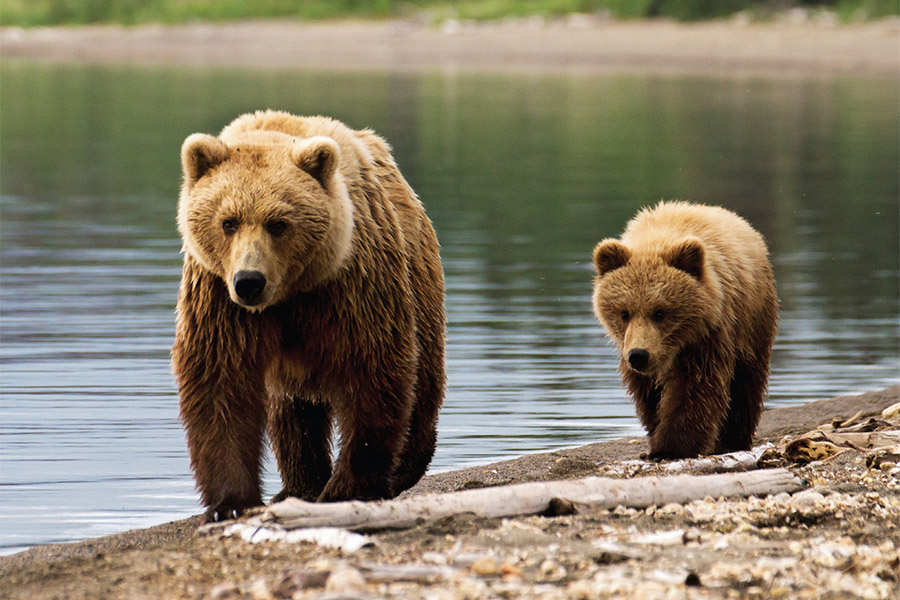bear: (173, 127, 347, 314), (588, 233, 714, 377)
